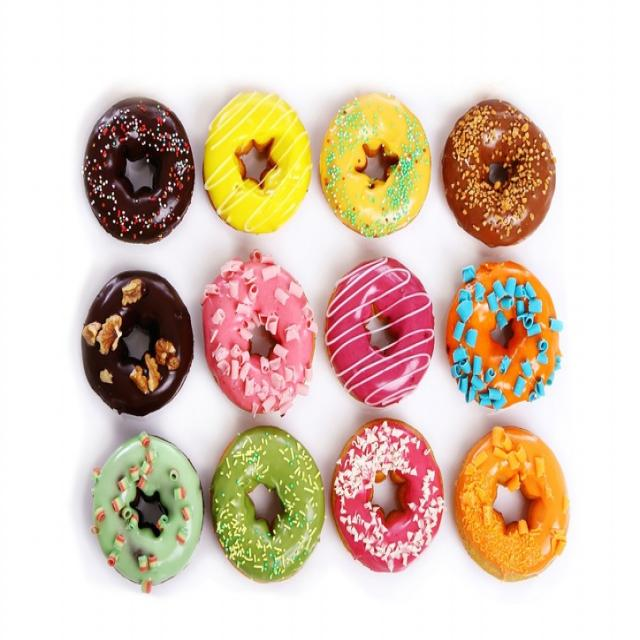donut: (451, 420, 569, 586), (199, 252, 317, 416), (88, 430, 205, 590), (329, 416, 446, 576), (439, 93, 557, 250), (209, 427, 327, 582), (442, 256, 561, 408), (323, 256, 436, 410), (83, 93, 195, 245), (80, 266, 192, 417), (320, 87, 432, 237), (203, 87, 313, 232)
